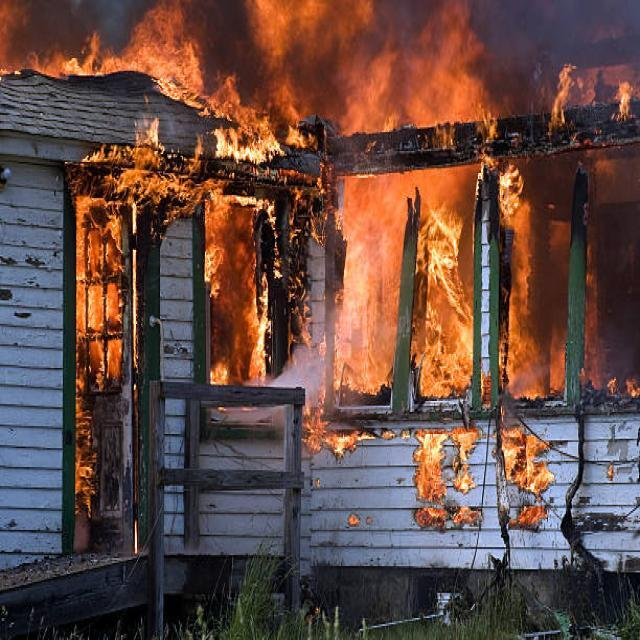Fire: (0, 1, 289, 160), (336, 168, 470, 396), (288, 0, 482, 115), (207, 192, 273, 397), (67, 185, 126, 390), (62, 142, 210, 216), (414, 420, 487, 528), (506, 428, 564, 531)
Smoke: (469, 0, 639, 101), (178, 0, 276, 112), (0, 0, 144, 50)
